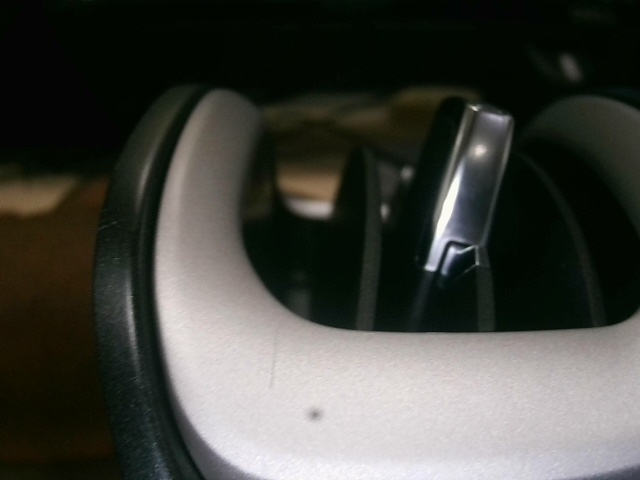NG: (264, 336, 291, 392), (97, 212, 125, 254)
